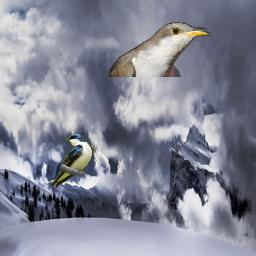Cuckoo: (109, 22, 212, 77)
Swallow: (50, 133, 95, 188)
